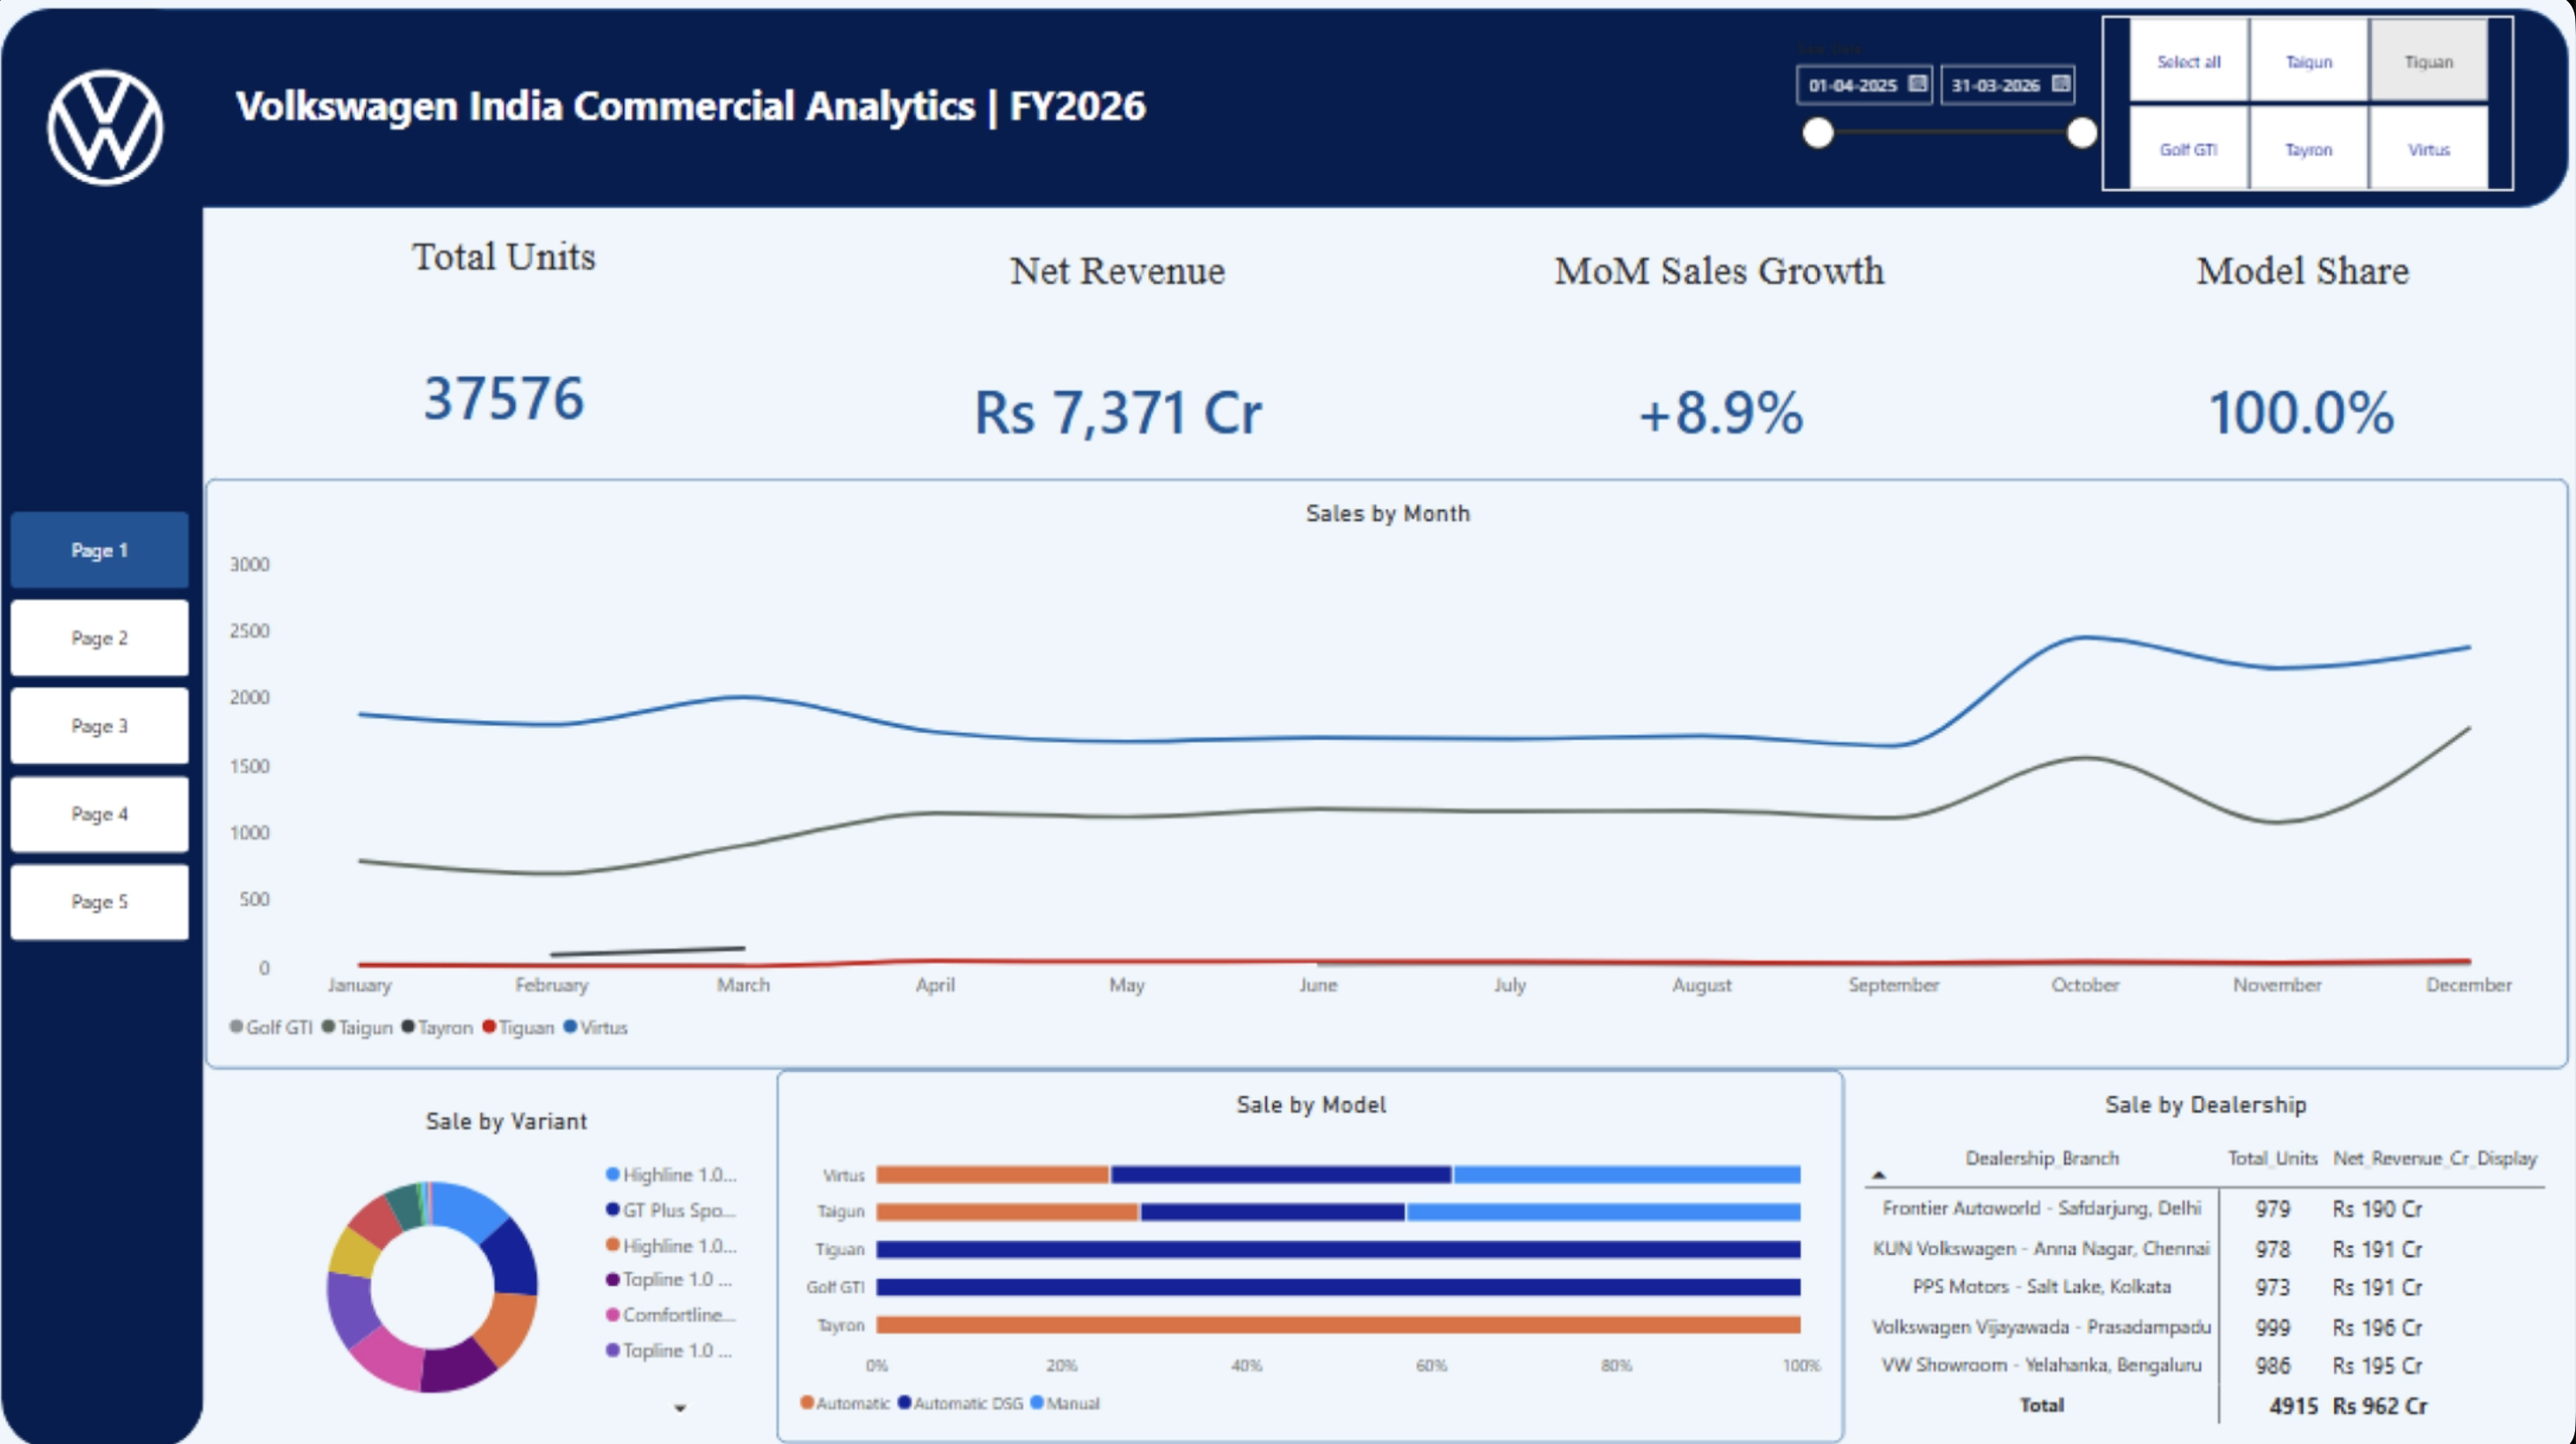

The page's visual inventory and layout, read from the dashboard file:
{"tool":"powerbi","page":{"name":"Page 1","canvas":[1920,1080],"ordinal":0},"visuals":[{"type":"shape","box":[12.5,10,1900,147.5],"z":0},{"type":"shape","box":[12.5,10,150,1065],"z":1000},{"type":"pageNavigator","box":[20,382.5,132.5,320],"z":2000},{"type":"lineChart","title":"Sales by Month","fields":{"Category":["VW_India_Sales_FY2026.Sale_Date.Variation.Date Hierarchy.Month"],"Series":["VW_India_Sales_FY2026.Model"],"Y":["VW_India_Sales_FY2026.Total_Units"]},"box":[163.4,358.4,1749.2,436.4],"z":3000},{"type":"donutChart","title":"Sale by Variant","fields":{"Category":["VW_India_Sales_FY2026.Variant"],"Y":["VW_India_Sales_FY2026.Total_Units"]},"box":[187.5,807.7,397.4,261.8],"z":4000},{"type":"pivotTable","title":"Sale by Dealership","fields":{"Rows":["VW_India_Sales_FY2026.Dealership_Branch"],"Values":["VW_India_Sales_FY2026.Total_Units","VW_India_Sales_FY2026.Net_Revenue"]},"box":[1375.7,794.3,537.1,281.4],"z":5000},{"type":"slicer","fields":{"Values":["VW_India_Sales_FY2026.Model"]},"box":[1567.5,15,305,130],"z":6000},{"type":"slicer","fields":{"Values":["VW_India_Sales_FY2026.Sale_Date"]},"box":[1332.5,32.5,235,112.5],"z":7000},{"type":"cardVisual","title":"Total Units","fields":{"Data":["VW_India_Sales_FY2026.Total_Units"]},"box":[186.7,156.7,396.7,226.7],"z":8000},{"type":"cardVisual","title":"Net Revenue","fields":{"Data":["VW_India_Sales_FY2026.Net_Revenue"]},"box":[640,166.7,396.7,226.7],"z":9000},{"type":"cardVisual","title":"MoM Sales Growth","fields":{"Data":["VW_India_Sales_FY2026.MoM_Growth_Display"]},"box":[1086.7,166.7,396.7,226.7],"z":10000},{"type":"cardVisual","title":"Model Share","fields":{"Data":["VW_India_Sales_FY2026.Flagship_Share_Display"]},"box":[1516.7,166.7,396.7,226.7],"z":11000},{"type":"image","box":[26,32,126,134],"z":12000},{"type":"hundredPercentStackedBarChart","title":"Sale by Model","fields":{"Category":["VW_India_Sales_FY2026.Model"],"Series":["VW_India_Sales_FY2026.Transmisson Type"],"Y":["CountNonNull(VW_India_Sales_FY2026.Engine Type)"]},"box":[586,794,790,276],"z":13000},{"type":"textbox","title":"Volkswagen India Commercial Analytics | FY2026","box":[186,61.4,691.2,49.1],"z":13001}]}

Visuals, with their boxes on the page's 1920x1080 design canvas (x1, y1, x2, y2). These are canvas units, not pixel positions in the 2576x1444 screenshot, which may show the page scaled, cropped or inside an application window:
shape: 12:10:1912:158
shape: 12:10:162:1075
pageNavigator: 20:382:152:702
"Sales by Month" lineChart: 163:358:1913:795
"Sale by Variant" donutChart: 188:808:585:1070
"Sale by Dealership" pivotTable: 1376:794:1913:1076
slicer - VW_India_Sales_FY2026.Model: 1568:15:1872:145
slicer - VW_India_Sales_FY2026.Sale_Date: 1332:32:1568:145
"Total Units" cardVisual: 187:157:583:383
"Net Revenue" cardVisual: 640:167:1037:393
"MoM Sales Growth" cardVisual: 1087:167:1483:393
"Model Share" cardVisual: 1517:167:1913:393
image: 26:32:152:166
"Sale by Model" hundredPercentStackedBarChart: 586:794:1376:1070
"Volkswagen India Commercial Analytics | FY2026" textbox: 186:61:877:110
